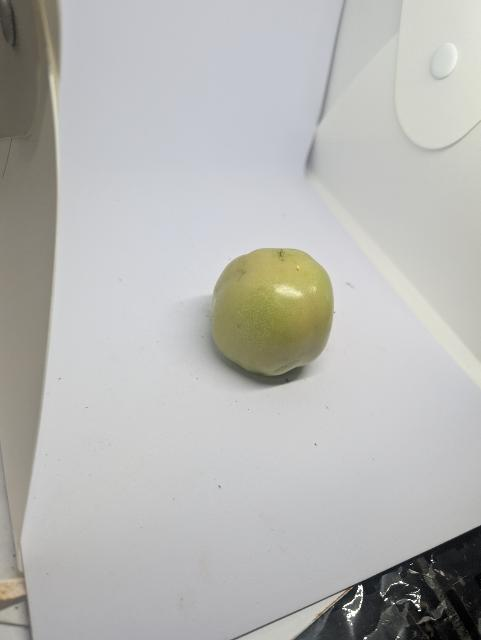green: (209, 246, 337, 379)
